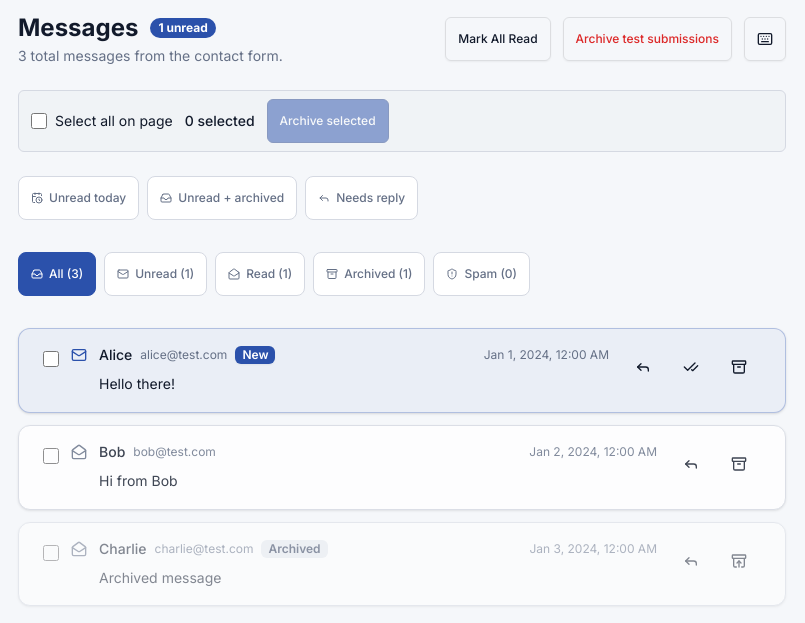
it: MessagesViewer › clears the selection when a preset is applied
Check: the text "Alice" is shown, box x1=99 y1=345 x2=132 y2=365
Click the checkbox named "Select message from Alice" at coordinates (51, 359), box x1=43 y1=351 x2=59 y2=367
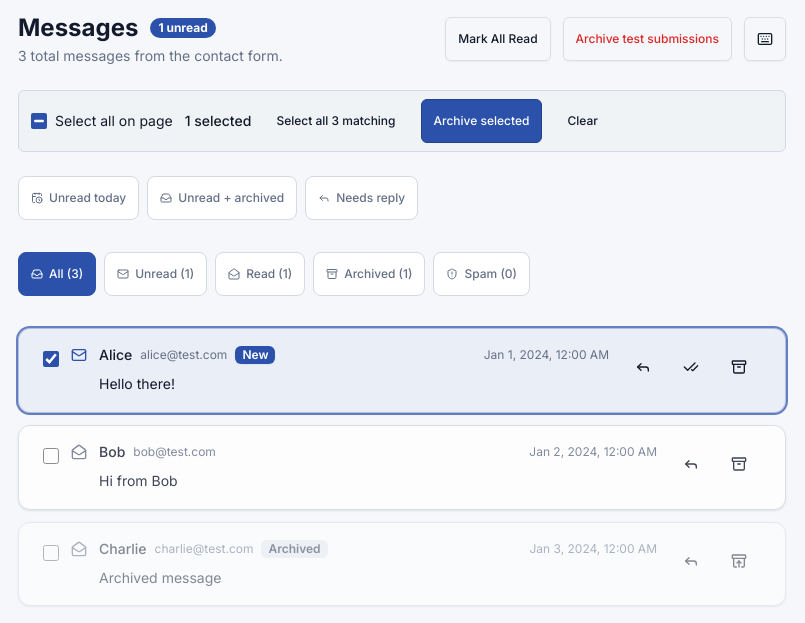
Check: the text "1 selected" is shown, box x1=185 y1=111 x2=251 y2=131
Click the button "Needs reply" at coordinates (362, 198), box x1=305 y1=176 x2=418 y2=220
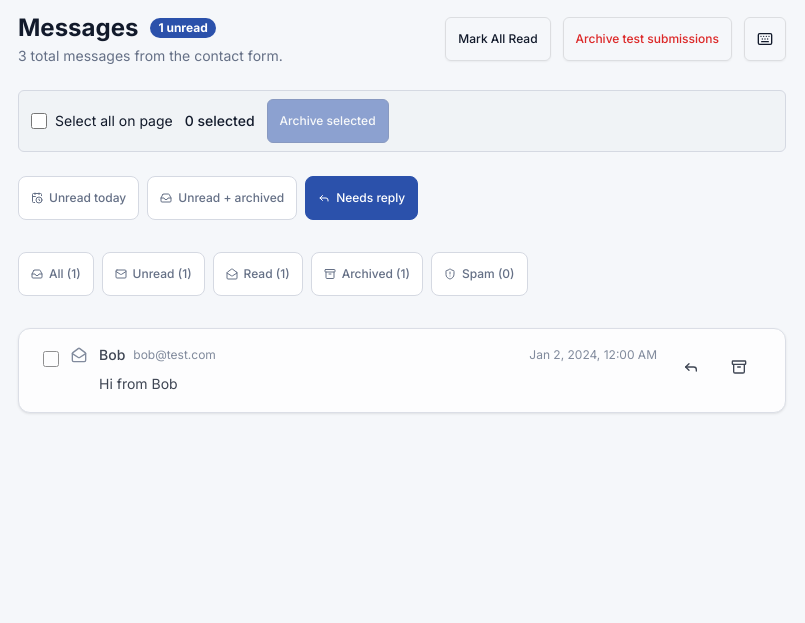
Check: the text "1 selected" is gone
